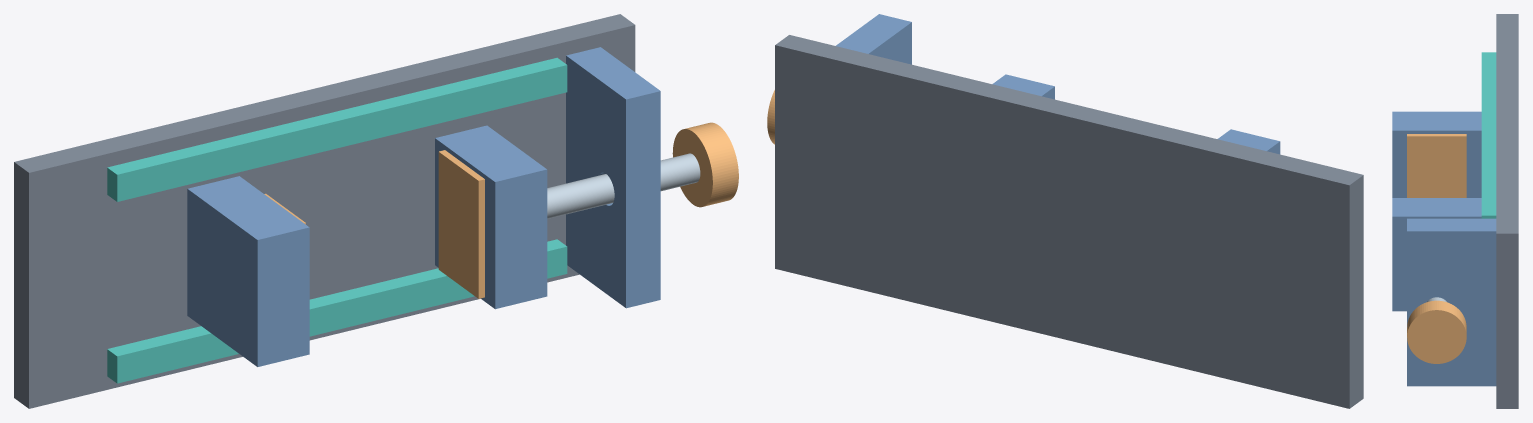
File: assembly.glb
3 views of the same model, side by side, from view 1: azimuth 30°, elevation 25°; view 2: azimuth 150°, elevation 25°; view 3: azimuth 270°, elevation 25° (orthographic). The views are drawn at different scales.
Visible parts, largest first — view 1: base, actuator_support, fixed_jaw, rail_right, moving_jaw, rail_left, moving_pad, knob, rod; view 2: base, actuator_support, fixed_jaw, moving_jaw; view 3: actuator_support, base, fixed_jaw, fixed_pad, moving_jaw, knob, rail_right.
Part boxes in pixels (left/top/right/bottom): base: left=14, top=14, right=635, bottom=408; actuator_support: left=566, top=47, right=660, bottom=308; fixed_jaw: left=187, top=176, right=309, bottom=366; rail_right: left=107, top=57, right=567, bottom=201; moving_jaw: left=435, top=125, right=547, bottom=309; rail_left: left=107, top=239, right=567, bottom=383; moving_pad: left=438, top=150, right=484, bottom=298; knob: left=672, top=122, right=738, bottom=207; rod: left=547, top=153, right=700, bottom=218; base: left=775, top=35, right=1363, bottom=408; actuator_support: left=836, top=14, right=911, bottom=64; fixed_jaw: left=1217, top=129, right=1280, bottom=154; moving_jaw: left=992, top=74, right=1054, bottom=99; actuator_support: left=1407, top=218, right=1496, bottom=386; base: left=1496, top=14, right=1518, bottom=408; fixed_jaw: left=1392, top=111, right=1481, bottom=197; fixed_pad: left=1407, top=134, right=1466, bottom=197; moving_jaw: left=1392, top=198, right=1481, bottom=311; knob: left=1407, top=300, right=1466, bottom=363; rail_right: left=1481, top=52, right=1496, bottom=218.
Size of the model in its own units: 0.1354 by 0.047 by 0.0307.
